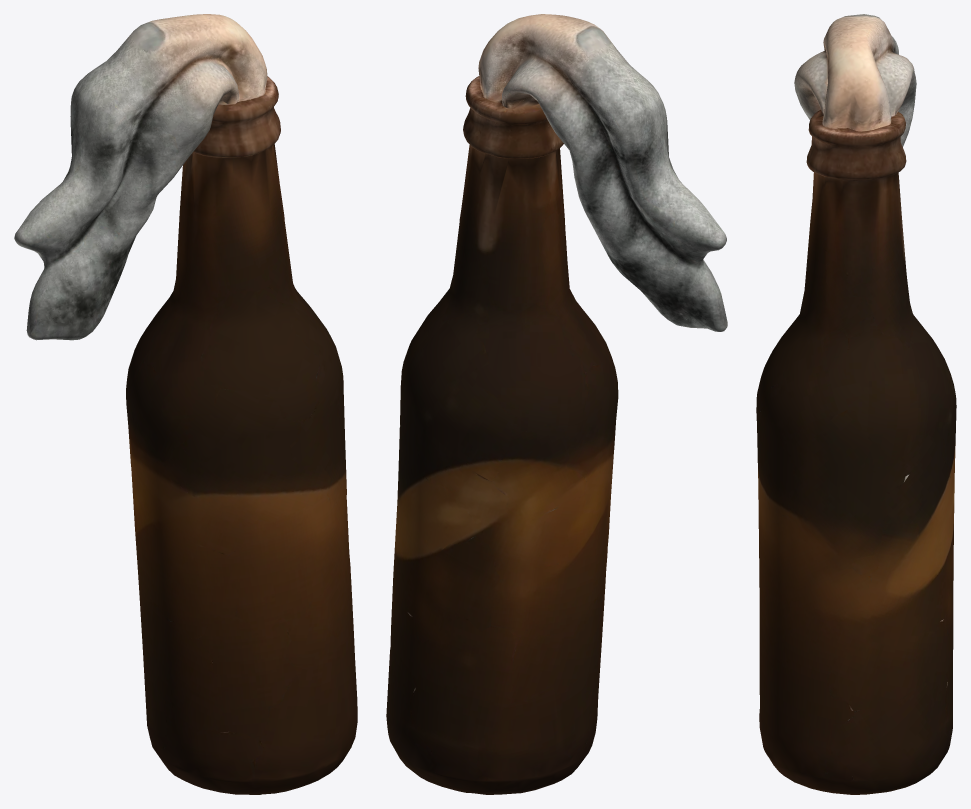
3 views of the same model, side by side, from view 1: azimuth 30°, elevation 25°; view 2: azimuth 150°, elevation 25°; view 3: azimuth 270°, elevation 25° (orthographic). The views are drawn at different scales.
Size of the model in its own units: 0.9743 by 2.17 by 0.5537.
Materials: 1 (1 with a texture image).
